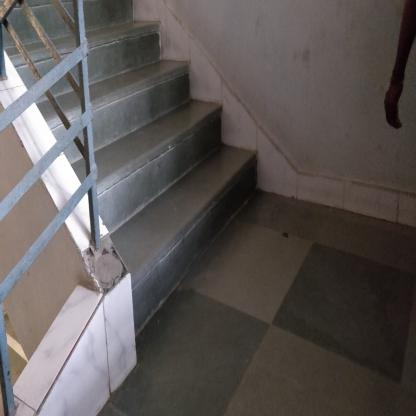stairs: (136, 50, 201, 336)
